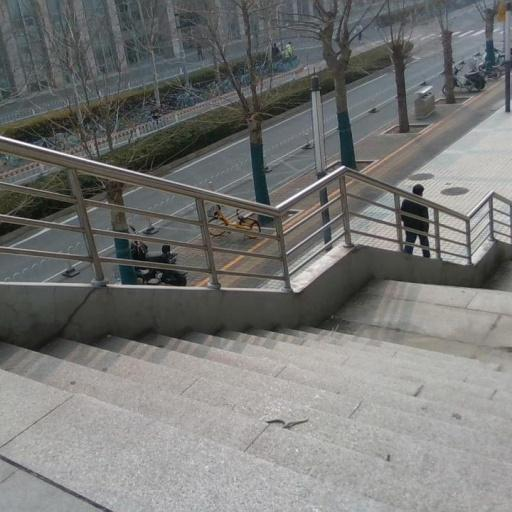stairs: (0, 281, 511, 511)
